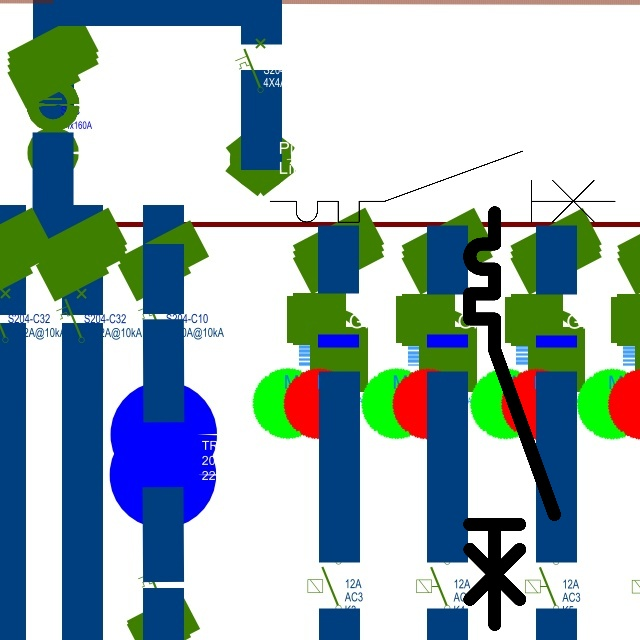interruptor_termomagnetico: (459, 202, 565, 635), (261, 142, 624, 231)
